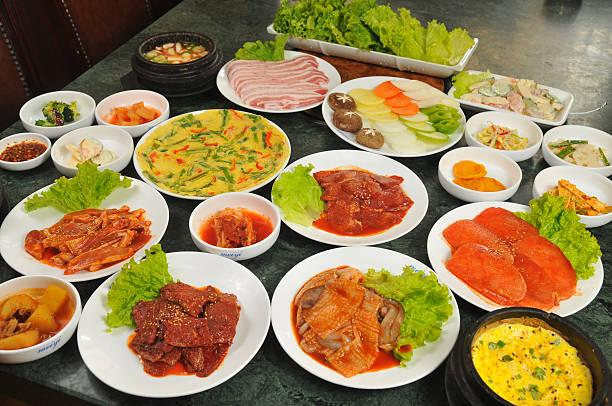Braised Crucian Carp: (79, 250, 268, 396), (270, 245, 458, 389), (425, 198, 602, 315), (0, 174, 168, 281), (446, 302, 612, 406), (273, 148, 428, 245), (133, 109, 285, 199), (320, 74, 463, 157), (213, 50, 331, 113)
